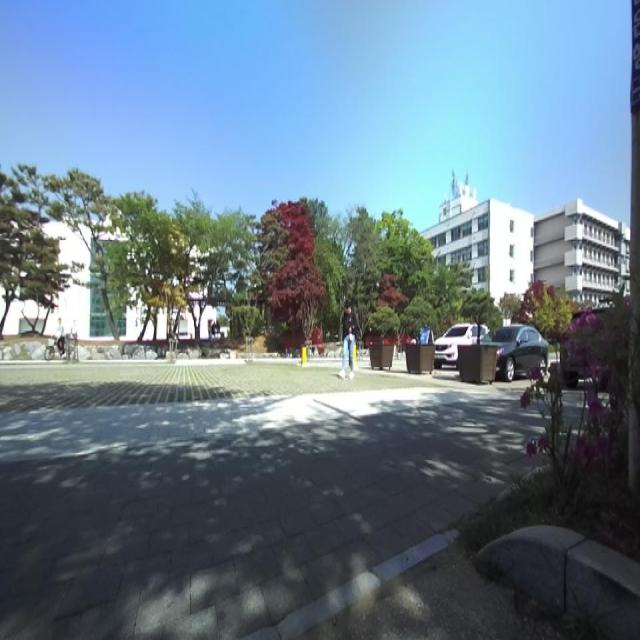sidewalk: (0, 374, 542, 638), (299, 541, 598, 640), (244, 531, 458, 640)
